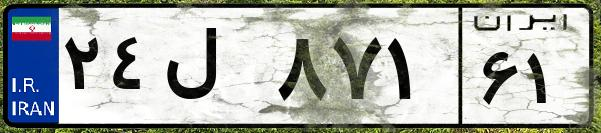1: (385, 28, 445, 110), (525, 38, 570, 115)
2: (57, 26, 110, 100)
4: (110, 28, 158, 98)
6: (475, 38, 525, 113)
7: (330, 28, 385, 110)
8: (270, 28, 330, 110)
ل: (158, 20, 270, 120)
